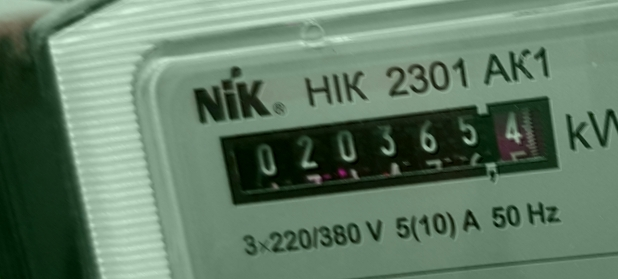0: (257, 140, 280, 175), (338, 125, 359, 163)
2: (295, 131, 320, 168)
3: (378, 119, 399, 156)
4: (504, 107, 525, 143)
5: (458, 111, 481, 145)
6: (418, 116, 440, 153)
screen: (204, 83, 579, 214)
